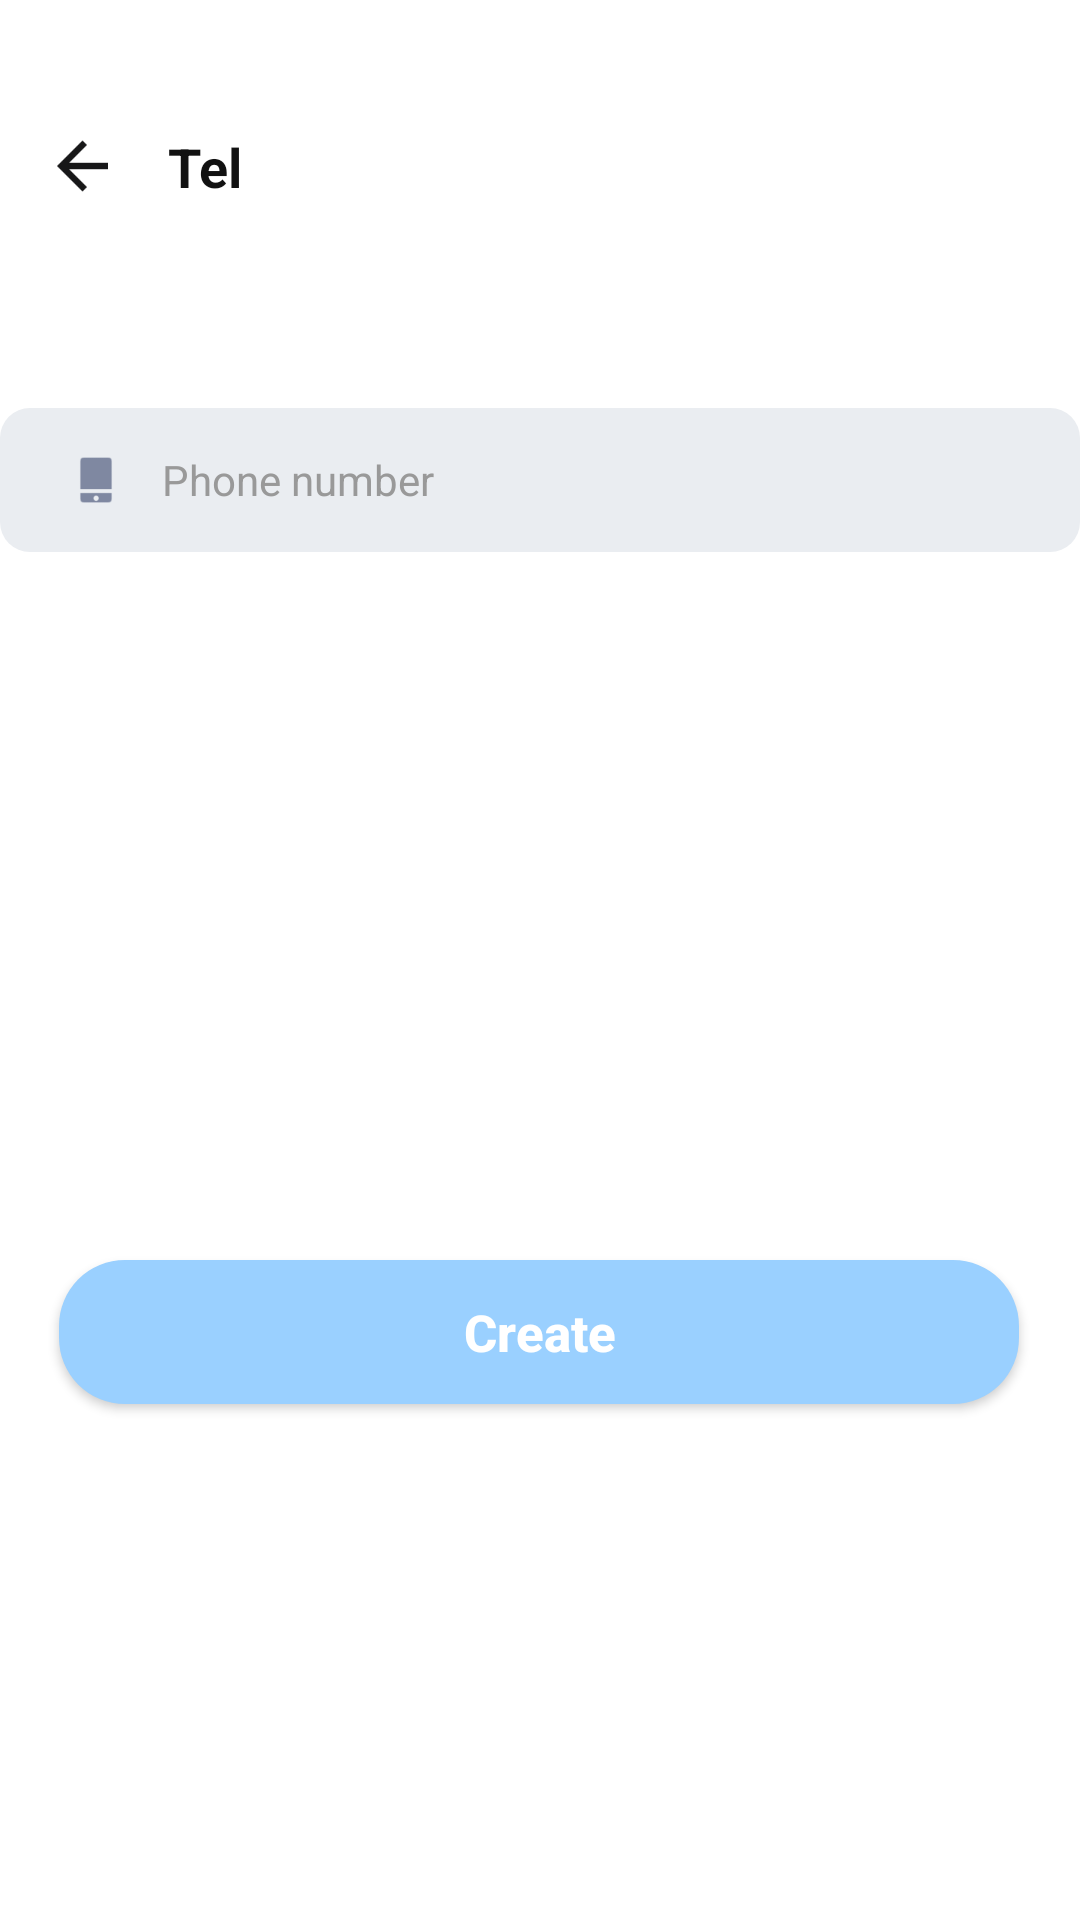

Named icons in this screenshot (1080×1920) and their centers, point (x, y):
create phone: point (96, 480)
results page return: point (82, 166)
